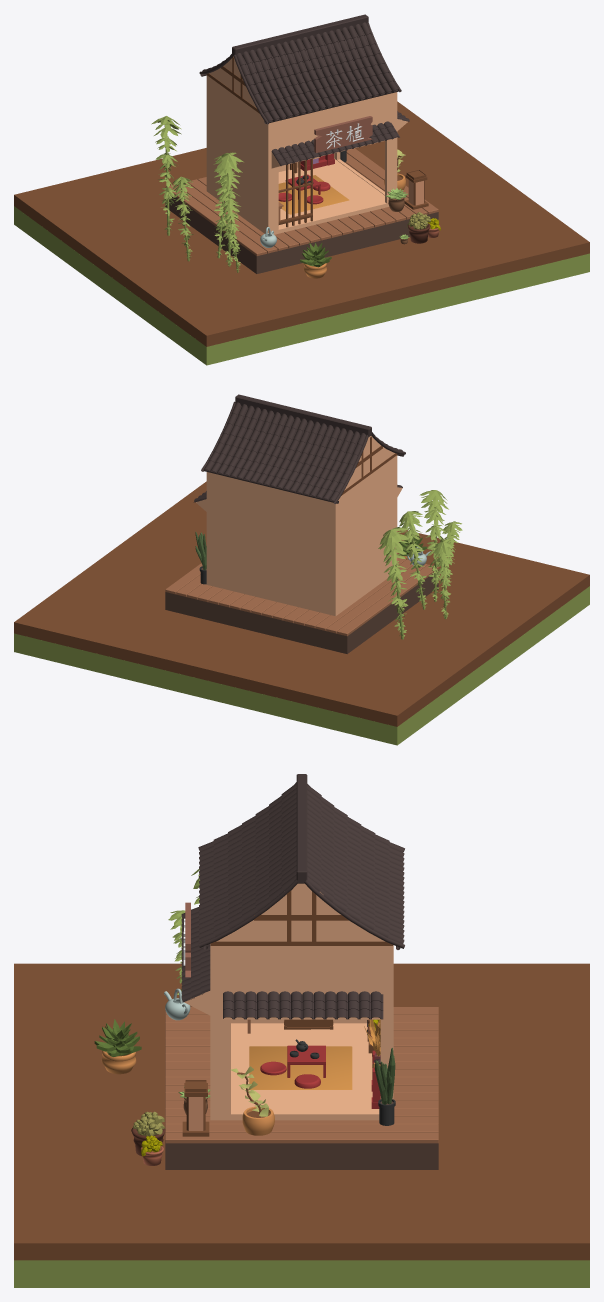
Rendered from japanese_tea_shop-transformed.glb.
3 views of the same model, one above another, from view 1: azimuth 30°, elevation 25°; view 2: azimuth 150°, elevation 25°; view 3: azimuth 270°, elevation 25° (orthographic). The views are drawn at different scales.
Parts seen in each view (by area): view 1: Cube.006, Circle, Cube, Cube.001, Cube.008, Cube.007, Circle.001, Plane.003, Cube.002, Plane.007, Plane.015, Cube.015 (+8 smaller); view 2: Cube.006, Cube, Circle.006, Cube.001, Cube.008, Cube.007, Plane.007, Cube.002, Plane.015, Plane.005, Plane.006, Vert.003; view 3: Cube.006, Cube.008, Cube, Cube.001, Circle, Circle.006, Cube.007, Circle.004, Plane.010, Plane.001, Circle.001, Cube.014 (+6 smaller).
Boxes of the visible parts, bbox=[...] form: Cube.006: bbox=[14, 101, 589, 365]; Circle: bbox=[236, 22, 398, 121]; Cube: bbox=[206, 103, 397, 234]; Cube.001: bbox=[206, 27, 397, 147]; Cube.008: bbox=[165, 148, 438, 256]; Cube.007: bbox=[165, 195, 438, 273]; Circle.001: bbox=[271, 121, 399, 165]; Plane.003: bbox=[314, 116, 372, 152]; Cube.002: bbox=[232, 14, 368, 55]; Plane.007: bbox=[151, 116, 181, 235]; Plane.015: bbox=[214, 152, 243, 266]; Cube.015: bbox=[278, 158, 312, 227]; Cube.006: bbox=[14, 481, 589, 745]; Cube: bbox=[206, 483, 397, 616]; Circle.006: bbox=[204, 402, 365, 500]; Cube.001: bbox=[206, 407, 397, 527]; Cube.008: bbox=[165, 557, 438, 636]; Cube.007: bbox=[165, 570, 438, 653]; Plane.007: bbox=[378, 526, 409, 639]; Cube.002: bbox=[235, 394, 371, 436]; Plane.015: bbox=[419, 490, 448, 601]; Plane.005: bbox=[399, 511, 427, 609]; Plane.006: bbox=[433, 538, 454, 619]; Vert.003: bbox=[201, 401, 368, 503]; Cube.006: bbox=[14, 963, 589, 1287]; Cube.008: bbox=[165, 1007, 438, 1143]; Cube: bbox=[210, 988, 393, 1120]; Cube.001: bbox=[210, 883, 393, 988]; Circle: bbox=[199, 783, 296, 942]; Circle.006: bbox=[307, 785, 404, 943]; Cube.007: bbox=[165, 1143, 438, 1169]; Circle.004: bbox=[223, 991, 383, 1019]; Plane.010: bbox=[249, 1046, 352, 1089]; Plane.001: bbox=[210, 890, 393, 945]; Circle.001: bbox=[181, 907, 210, 1002]; Cube.014: bbox=[94, 1019, 141, 1074].
Size of the model in its own units: 5.94 by 3.21 by 5.17.
